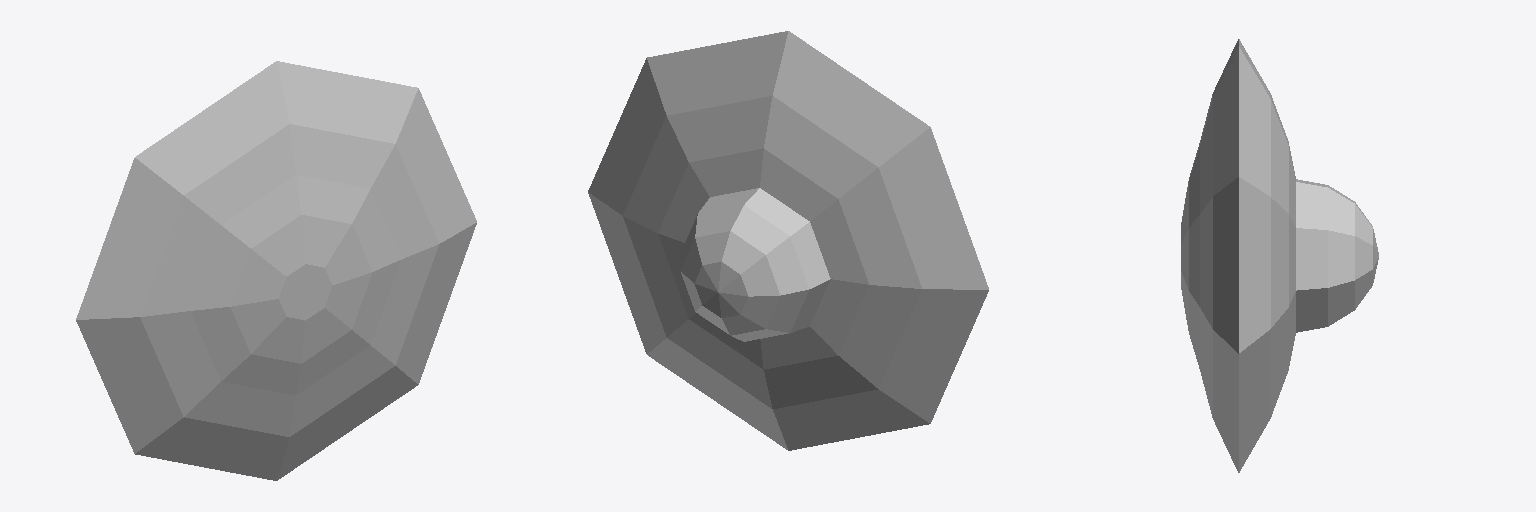
Rendered from lil_ufo IFCUBE.obj.
The picture shows the model from 3 angles: view 1: azimuth 30°, elevation 25°; view 2: azimuth 150°, elevation 25°; view 3: azimuth 270°, elevation 25°; orthographic projection.
Visible parts, largest first — view 1: Sphere; view 2: Sphere; view 3: Sphere.
Part boxes in pixels (x1,y1,x2,y2): Sphere: (76,61,476,480); Sphere: (588,31,988,450); Sphere: (1181,39,1378,472).
Bounding box in the file's own units: 9.19 × 9.19 × 3.94.